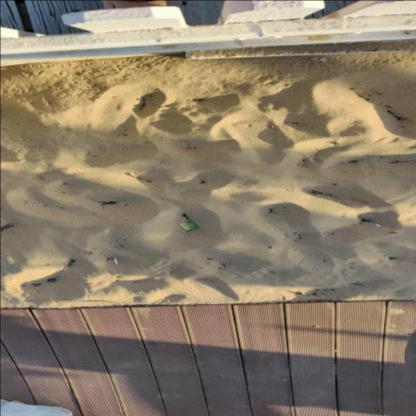Plastic bag - wrapper: (179, 221, 198, 230)
Unlabeled litter: (113, 258, 117, 265)
